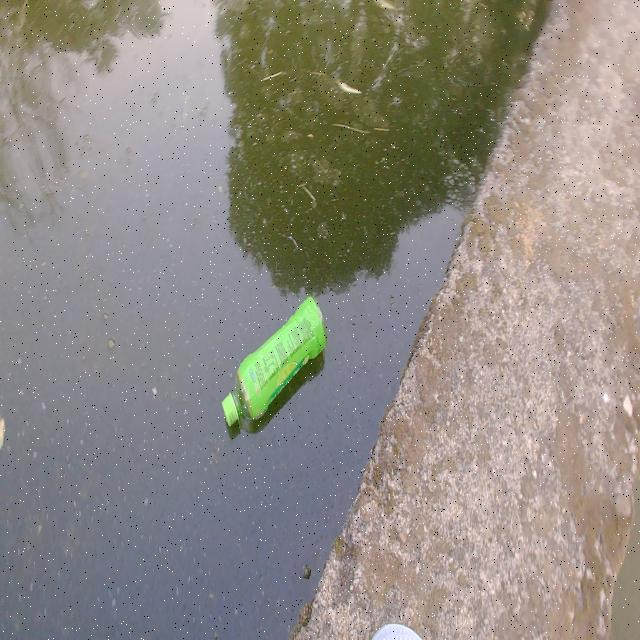Bottle: (220, 288, 329, 435)
